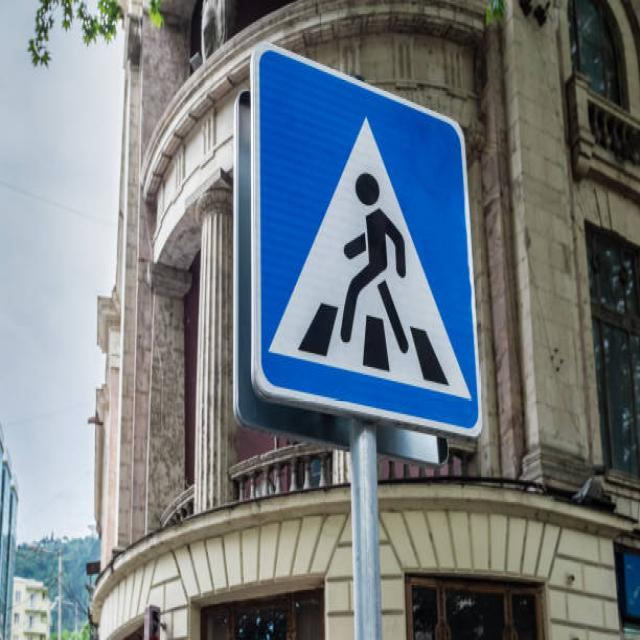crosswalk: (246, 33, 492, 448)
